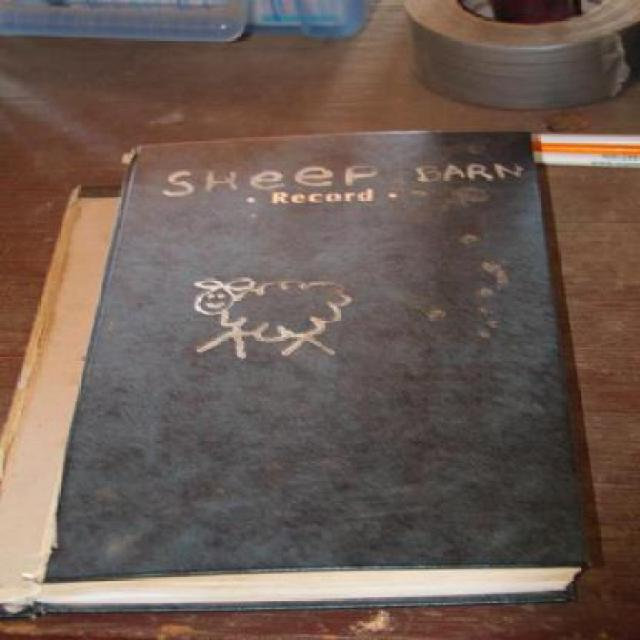book: (27, 102, 615, 637)
